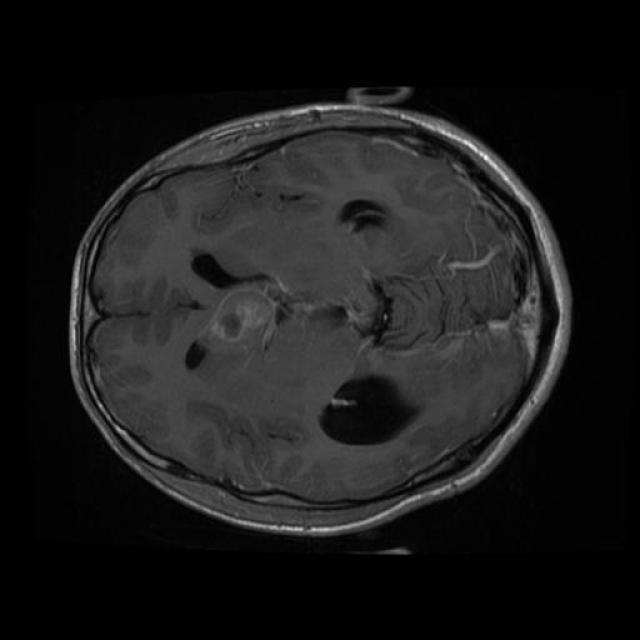Glioma: (321, 375, 418, 445), (206, 292, 283, 351)
